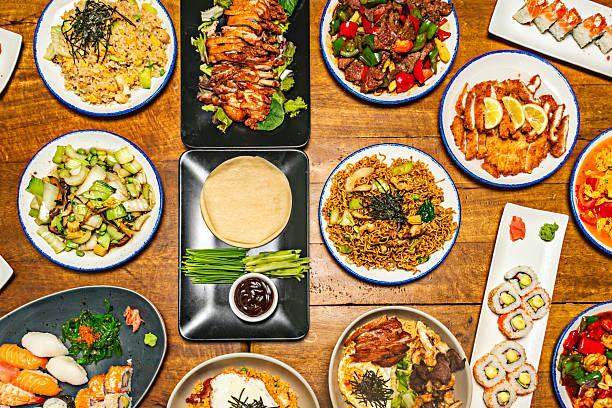Braised Crucian Carp: (178, 149, 308, 338), (15, 130, 164, 272), (465, 203, 567, 402), (436, 49, 579, 190), (0, 286, 167, 406), (317, 143, 459, 284), (178, 2, 310, 151), (30, 0, 173, 117), (317, 0, 454, 106), (328, 305, 471, 406)
